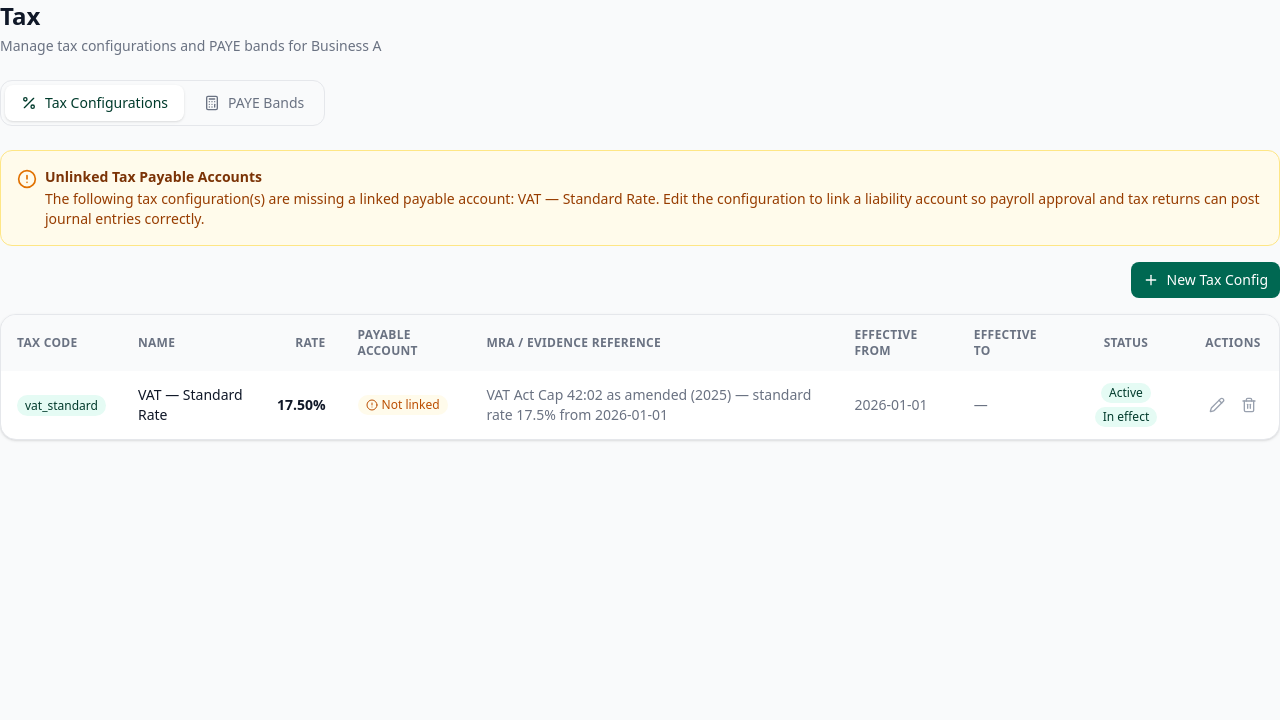
it: tax configurations — refusals › reports a delete that removed nothing (row level security hid the row) and leaves it on screen
This screenshot has width=1280, height=720.
Check: the text "vat_standard" is shown, box left=17, top=395, right=106, bottom=416
Click the button named "Delete VAT — Standard Rate" at x=1249, y=405, box left=1235, top=391, right=1263, bottom=419
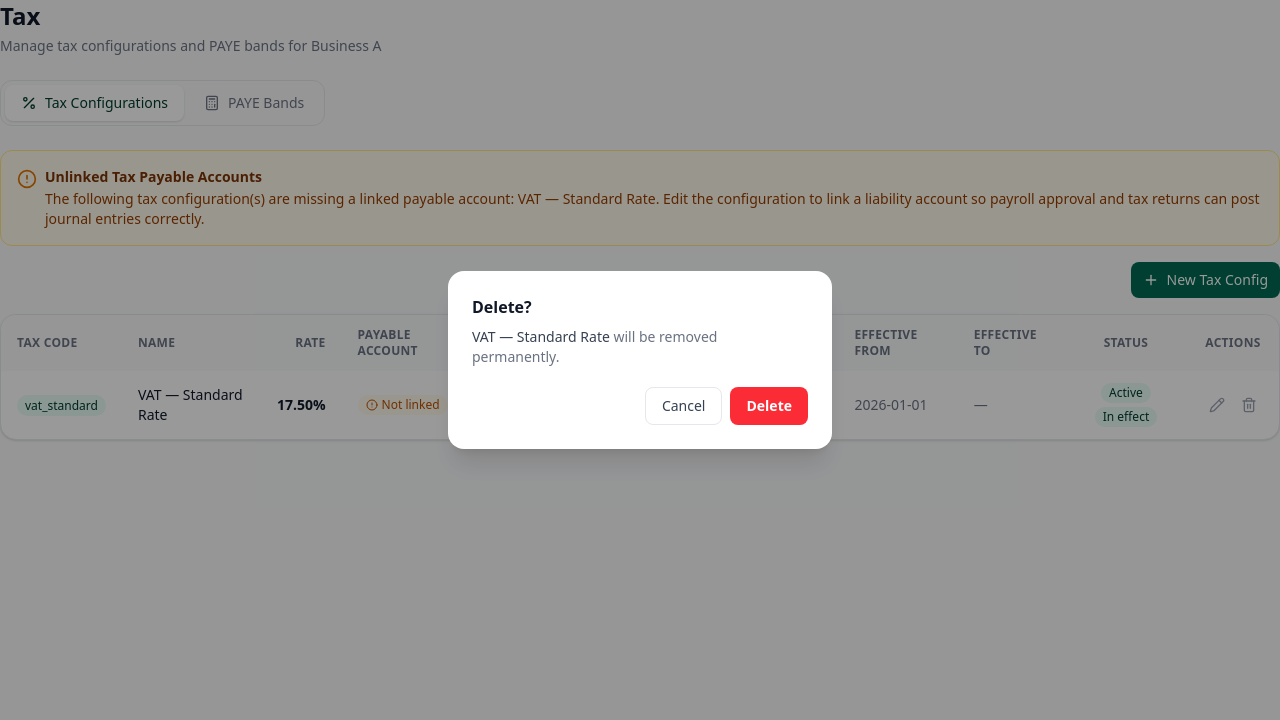
Click the button "Delete" at x=769, y=406, box left=730, top=387, right=808, bottom=425
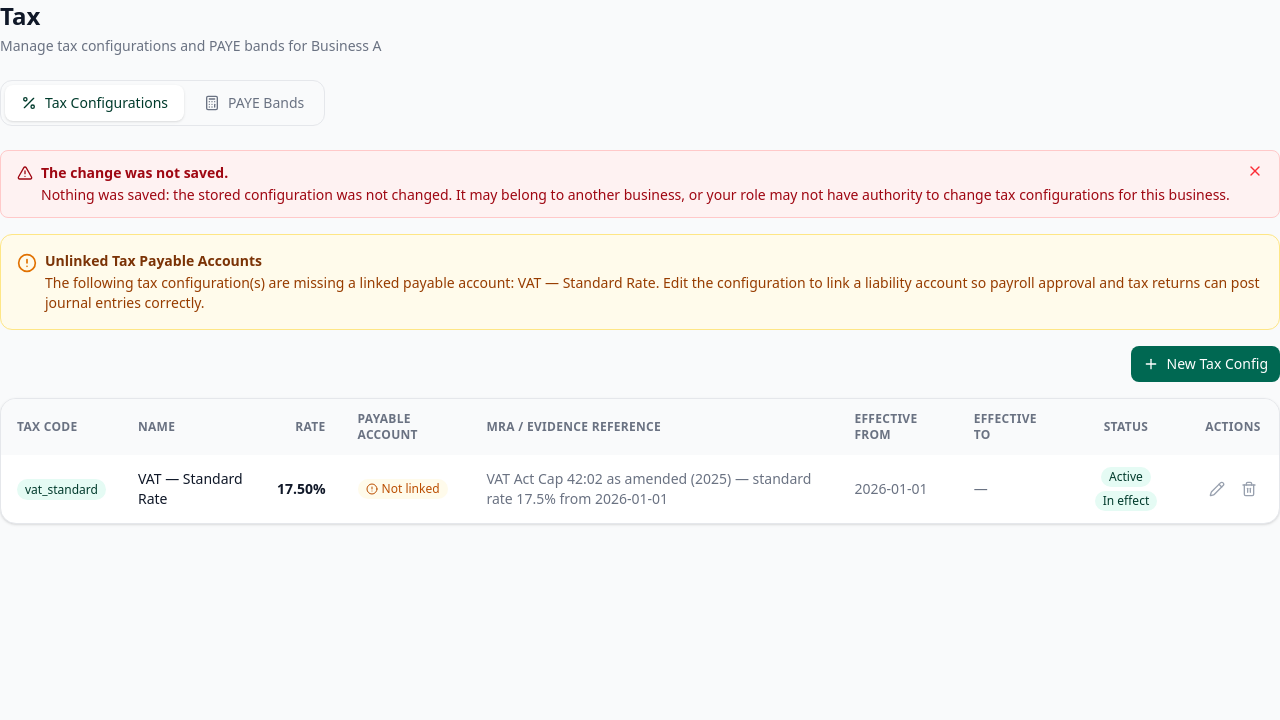
Check: the text "vat_standard" is shown, box left=17, top=479, right=106, bottom=500
Check: the text "Nothing was saved: the stored configuration was not changed. It may belong to another business, or your role may not hav" is shown, box left=41, top=185, right=1230, bottom=204
Check: the heading "Delete?" is gone
